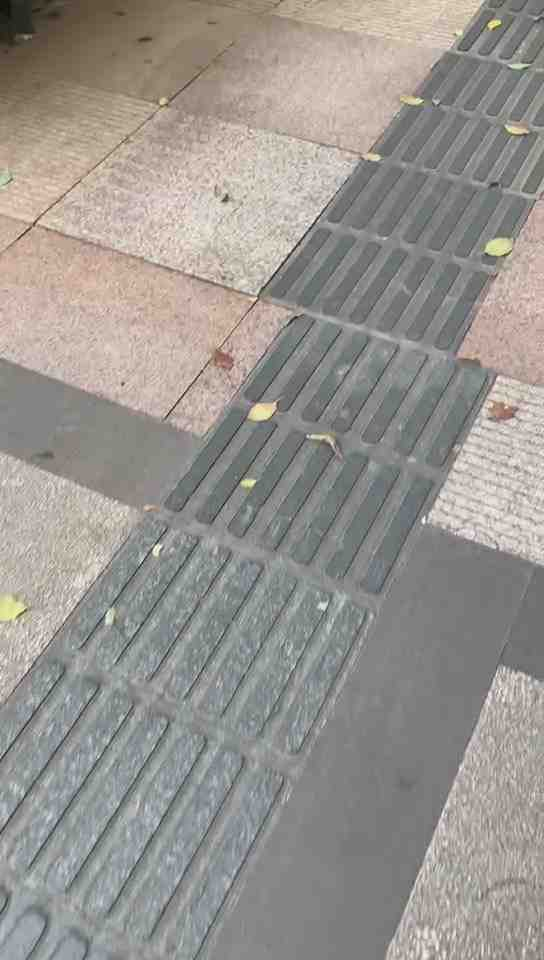leaf: (244, 393, 281, 423), (478, 232, 517, 259), (498, 117, 533, 143), (393, 86, 427, 110), (357, 147, 386, 165), (483, 14, 506, 34)
